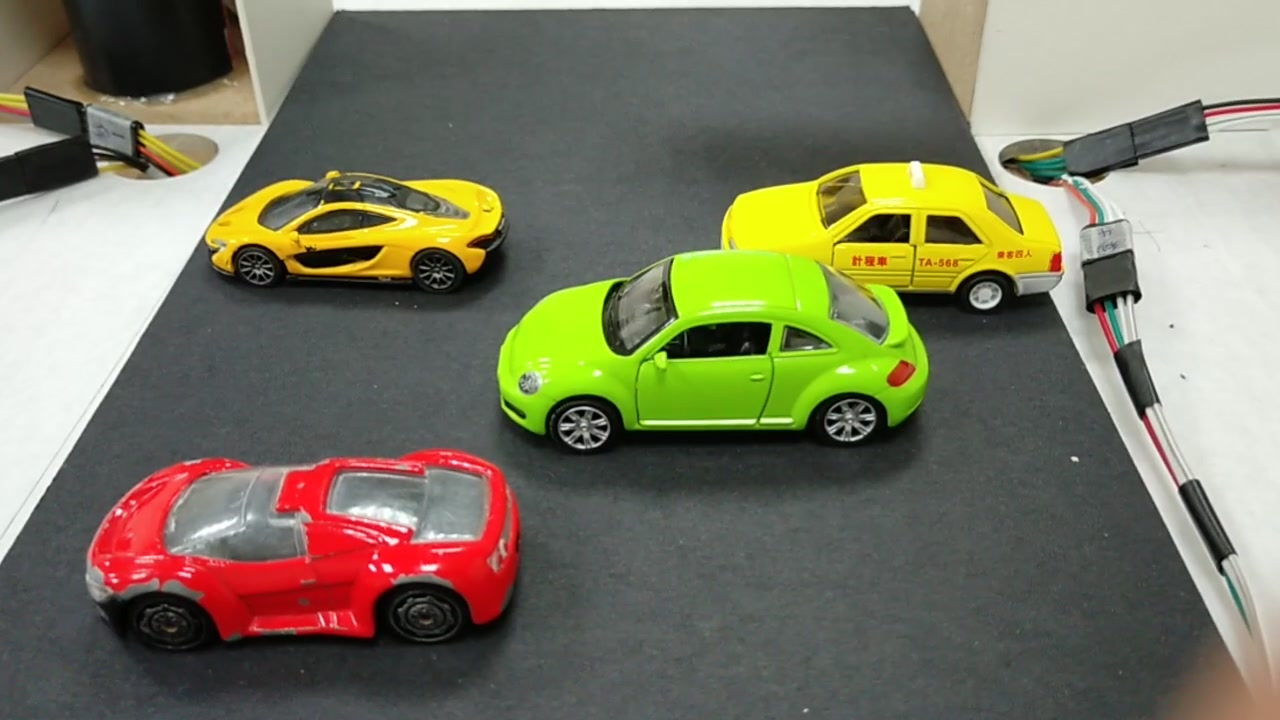car: (86, 456, 524, 641), (514, 262, 920, 440), (723, 163, 1062, 306), (212, 174, 504, 279)
